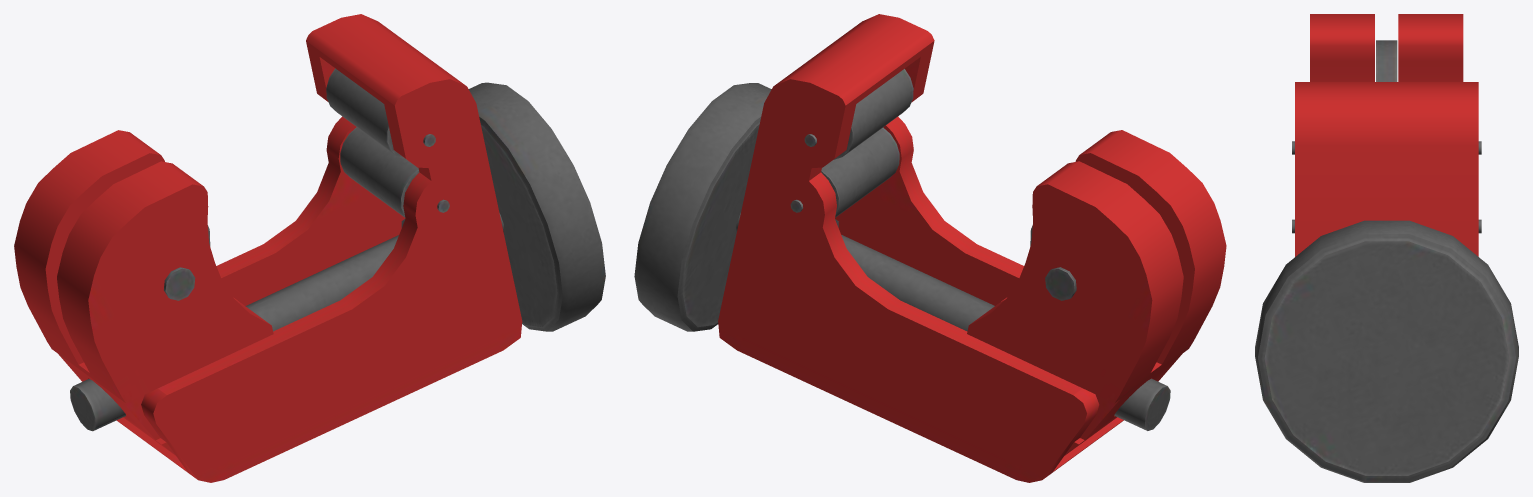
File: tool_Pipe_cutter_small.glb
3 views of the same model, side by side, from view 1: azimuth 30°, elevation 25°; view 2: azimuth 150°, elevation 25°; view 3: azimuth 270°, elevation 25° (orthographic). The views are drawn at different scales.
Parts seen in each view (by area): view 1: tool_Pipe_cutter_small; view 2: tool_Pipe_cutter_small; view 3: tool_Pipe_cutter_small.
Boxes of the visible parts, x1,y1,x2,y2 form: tool_Pipe_cutter_small: (14,14,605,482); tool_Pipe_cutter_small: (634,14,1226,482); tool_Pipe_cutter_small: (1255,14,1518,482).
Bounding box in the file's own units: 0.1077 × 0.0698 × 0.0466.
Materials: 1 (1 with a texture image).
